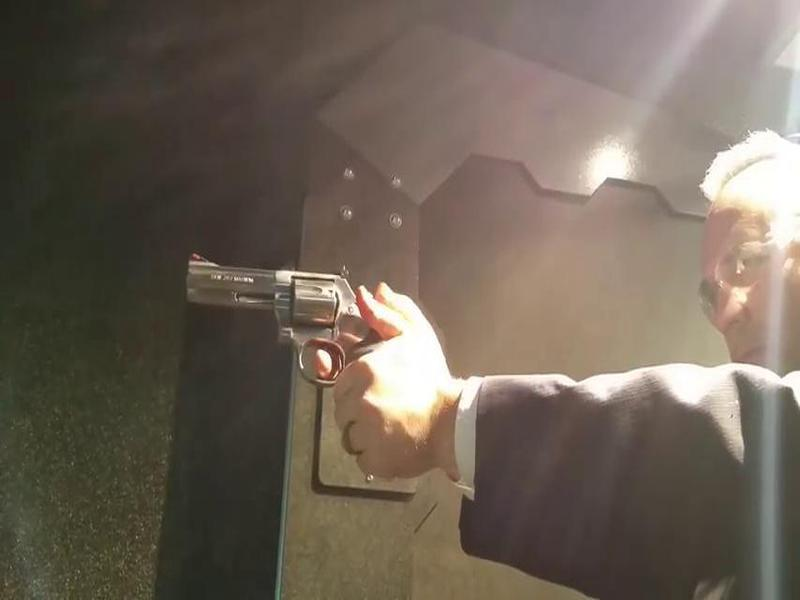Revolver: (163, 238, 388, 422)
